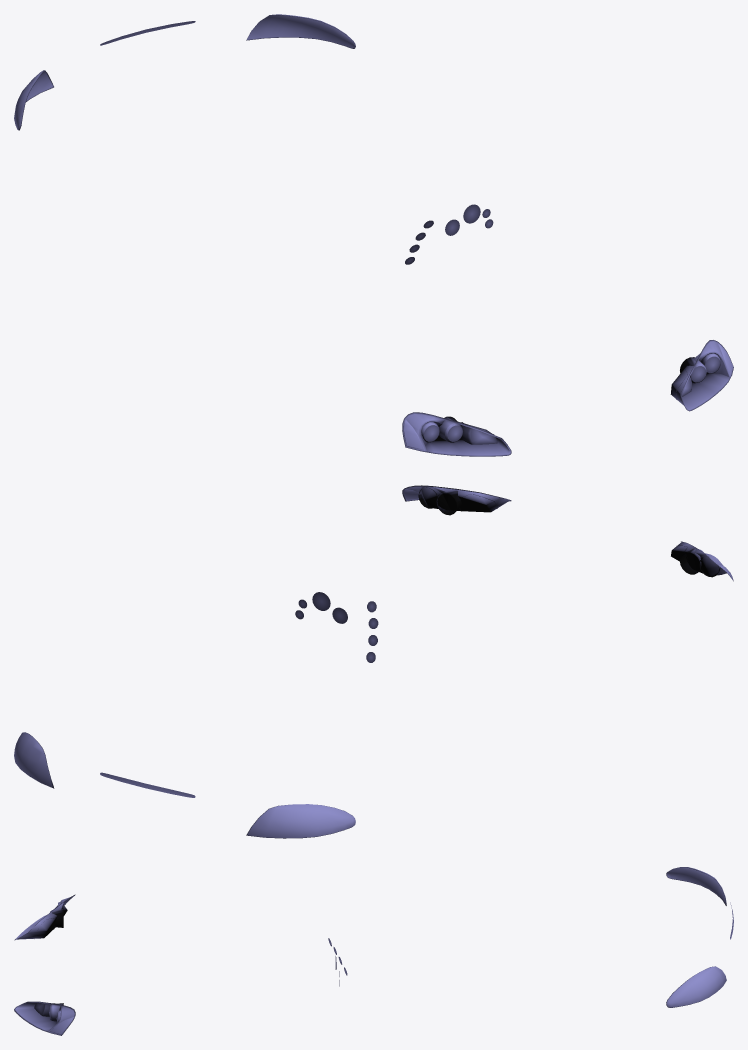
The model's file is Viper_Chassis_Detail.fbx.
3 views of the same model, one above another, from view 1: azimuth 30°, elevation 25°; view 2: azimuth 150°, elevation 25°; view 3: azimuth 270°, elevation 25° (orthographic). The views are drawn at different scales.
Parts seen in each view (by area): view 1: Viper_Chassis_Detail; view 2: Viper_Chassis_Detail; view 3: Viper_Chassis_Detail.
Part boxes in pixels (bbox=[...]): Viper_Chassis_Detail: bbox=[14, 14, 733, 456]; Viper_Chassis_Detail: bbox=[14, 485, 733, 838]; Viper_Chassis_Detail: bbox=[14, 867, 733, 1035].
Size of the model in its own units: 177 by 36.2 by 413.
